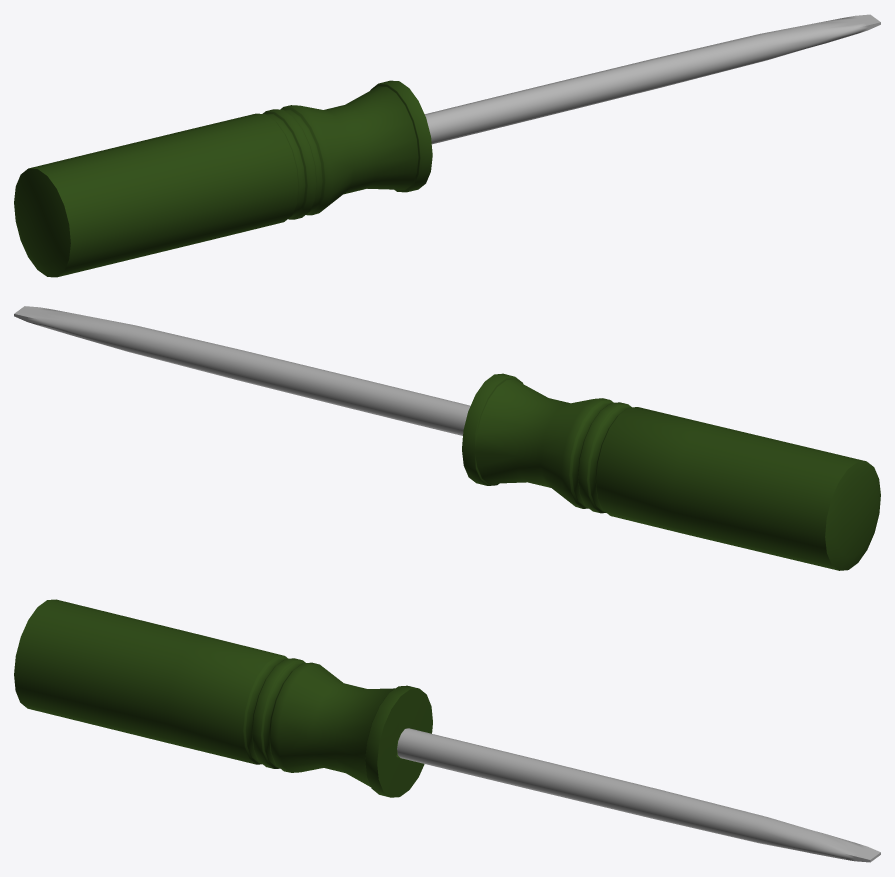
The model's file is screw Driver.FBX.
3 renders of one model, top to bottom at view 1: azimuth 30°, elevation 25°; view 2: azimuth 150°, elevation 25°; view 3: azimuth 330°, elevation 25°, orthographic.
Visible parts, largest first — view 1: screw driver (×2); view 2: screw driver (×2); view 3: screw driver (×2).
Boxes of the visible parts, x1,y1,x2,y2 form: screw driver (×2): (14, 14, 880, 277); screw driver (×2): (14, 306, 880, 570); screw driver (×2): (14, 599, 880, 862).
Size of the model in its own units: 21.76 by 2.52 by 2.56.
